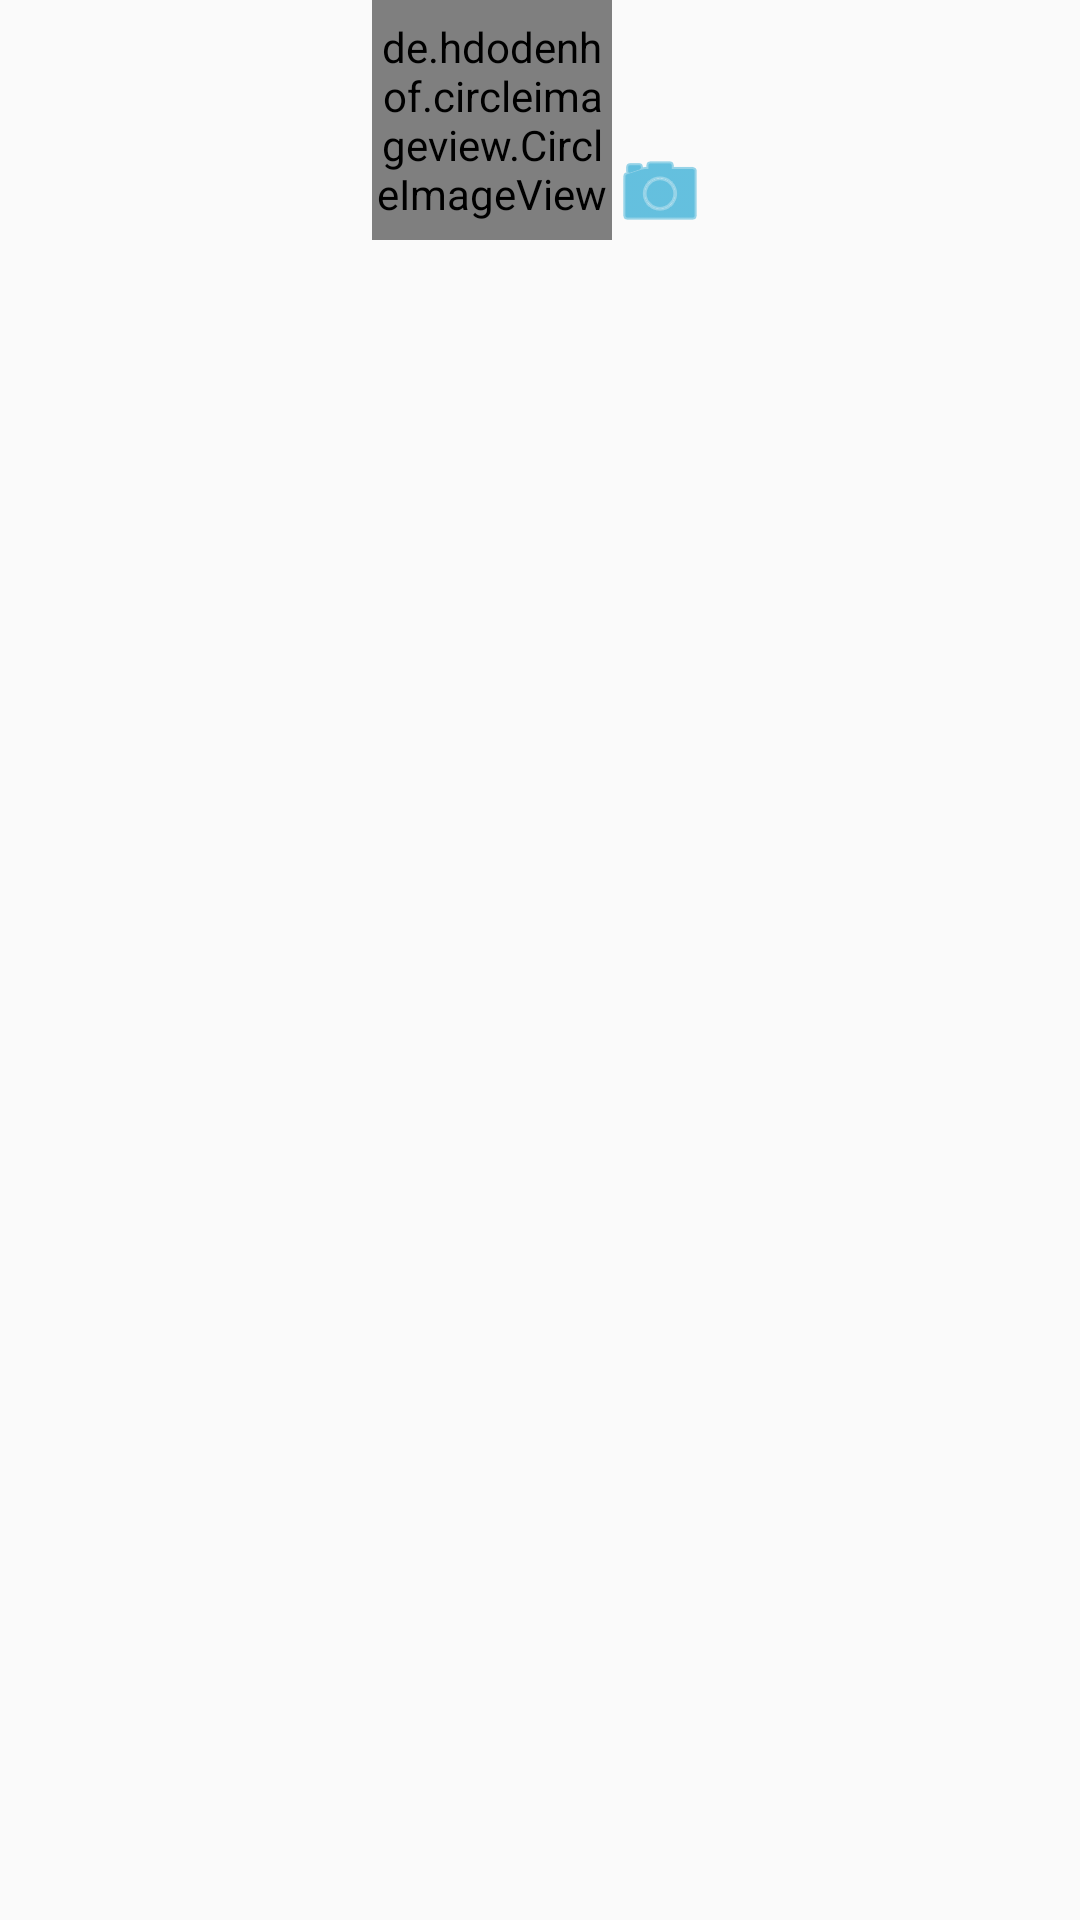

Where icons sit on this 1080 × 1920 app screen, as (x1, y1, x2, y2):
camera: (623, 161, 697, 220)
